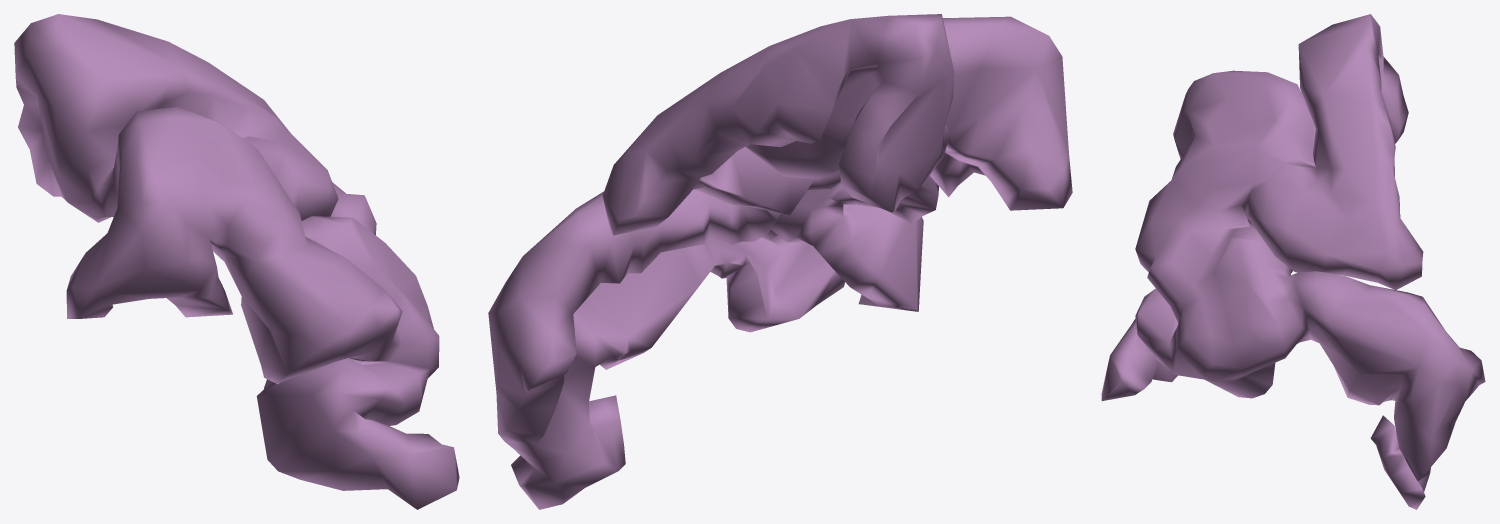
3 renders of one model, left to right at view 1: azimuth 30°, elevation 25°; view 2: azimuth 150°, elevation 25°; view 3: azimuth 270°, elevation 25°, orthographic. The views are drawn at different scales.
Parts seen in each view (by area): view 1: 左侧角回; view 2: 左侧角回; view 3: 左侧角回.
Boxes of the visible parts, <box> form: 左侧角回: <box>14,14,459,509</box>; 左侧角回: <box>488,14,1072,509</box>; 左侧角回: <box>1101,14,1485,509</box>.
Bounding box in the file's own units: 0.0636 × 0.0764 × 0.0697.
